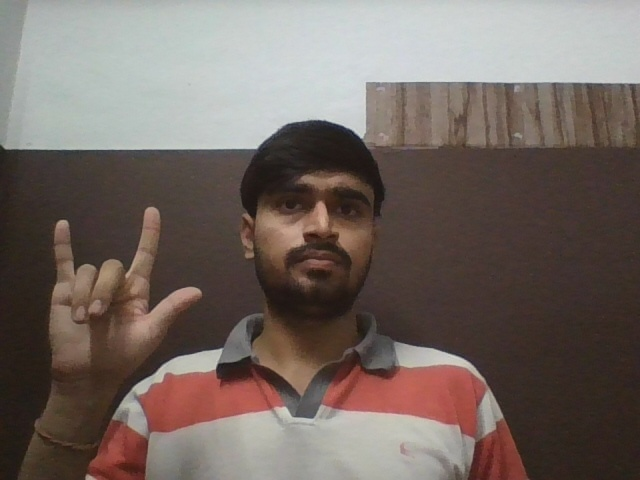I Love You: (50, 206, 203, 392)
